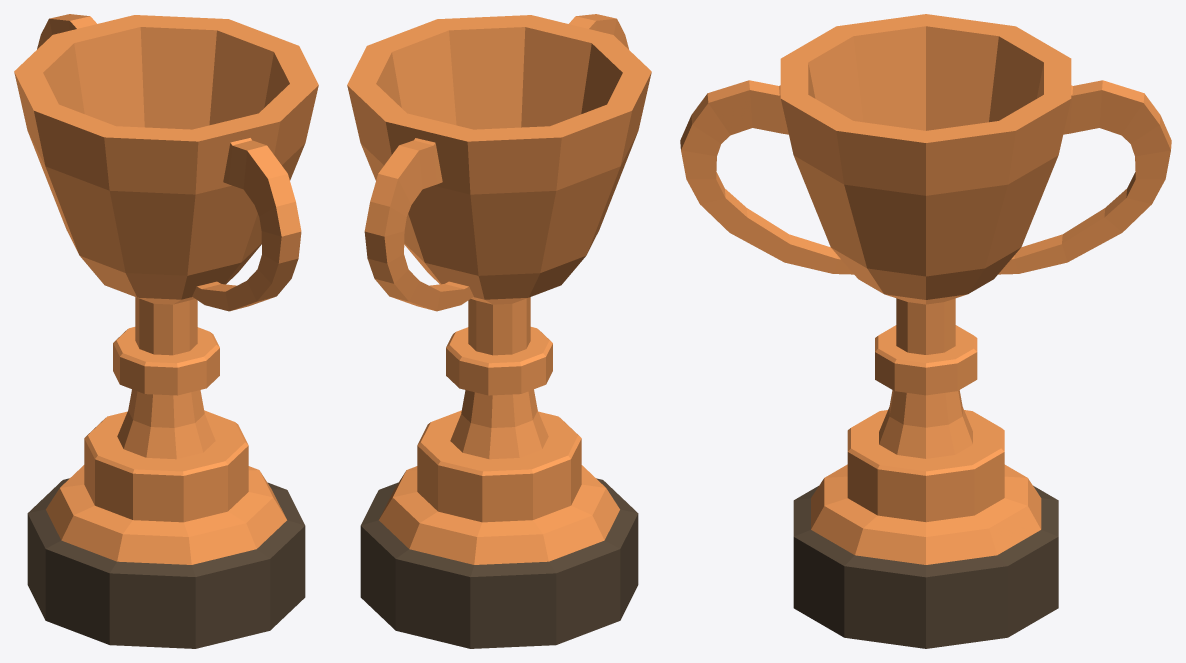
File: SM_Cup_02.glb
The picture shows the model from 3 angles, left to right: view 1: azimuth 30°, elevation 25°; view 2: azimuth 150°, elevation 25°; view 3: azimuth 270°, elevation 25°; orthographic projection.
Visible parts, largest first — view 1: SM_Cup_02; view 2: SM_Cup_02; view 3: SM_Cup_02.
Boxes of the visible parts, left/top/right/bottom form: SM_Cup_02: left=14, top=14, right=318, bottom=648; SM_Cup_02: left=347, top=14, right=651, bottom=648; SM_Cup_02: left=680, top=14, right=1171, bottom=648.
Size of the model in its own units: 0.2929 by 0.5411 by 0.4712.
1 material, 1 textured.
